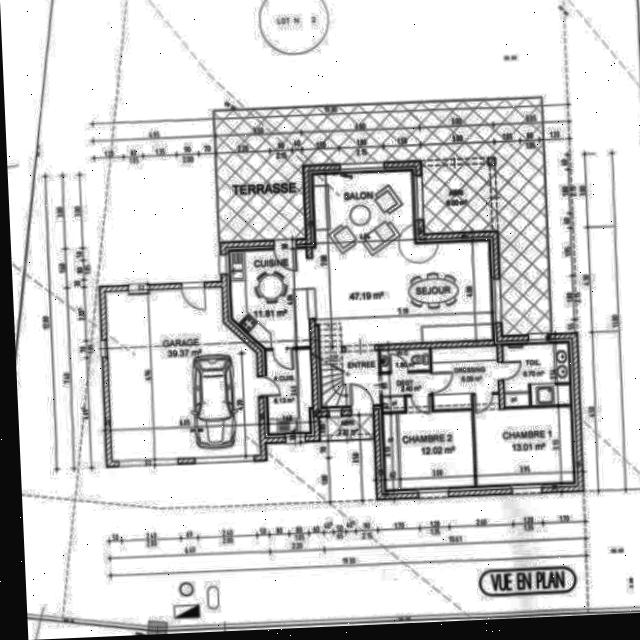room: (313, 168, 495, 407), (105, 286, 260, 461), (473, 391, 574, 486), (383, 394, 475, 489), (230, 249, 310, 350), (503, 343, 571, 407), (432, 346, 499, 410), (266, 349, 313, 434), (381, 372, 432, 412), (381, 349, 430, 372)
